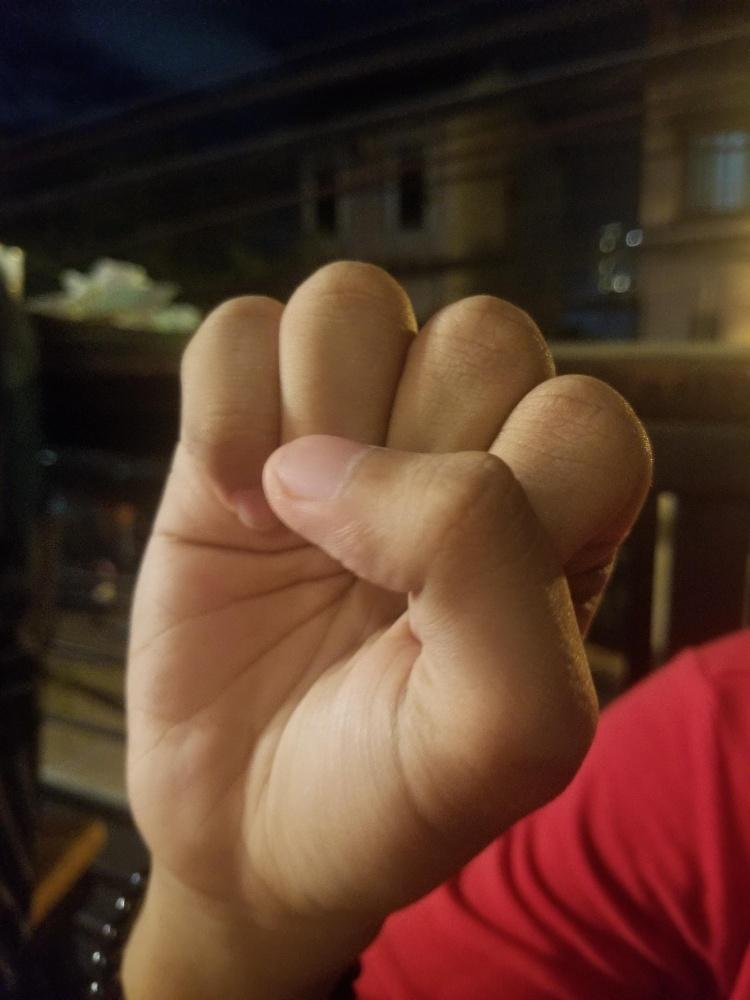s: (126, 256, 655, 909)
